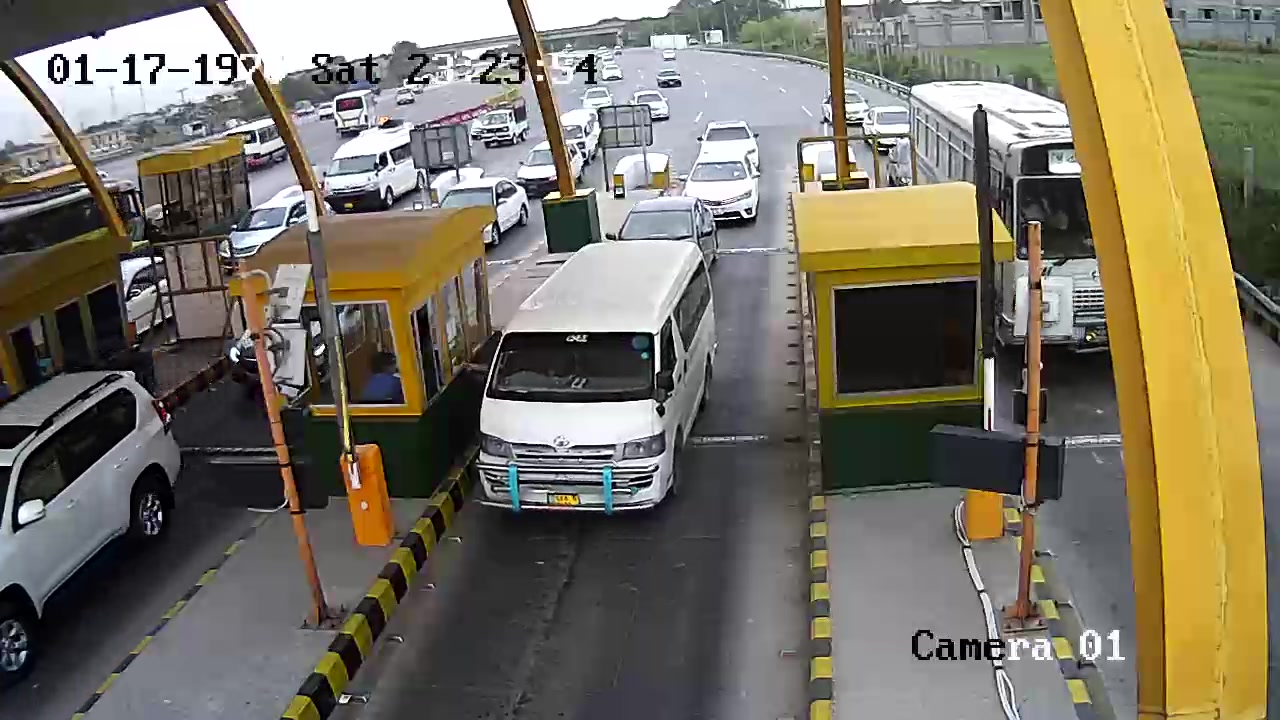F2: (474, 237, 717, 520)
